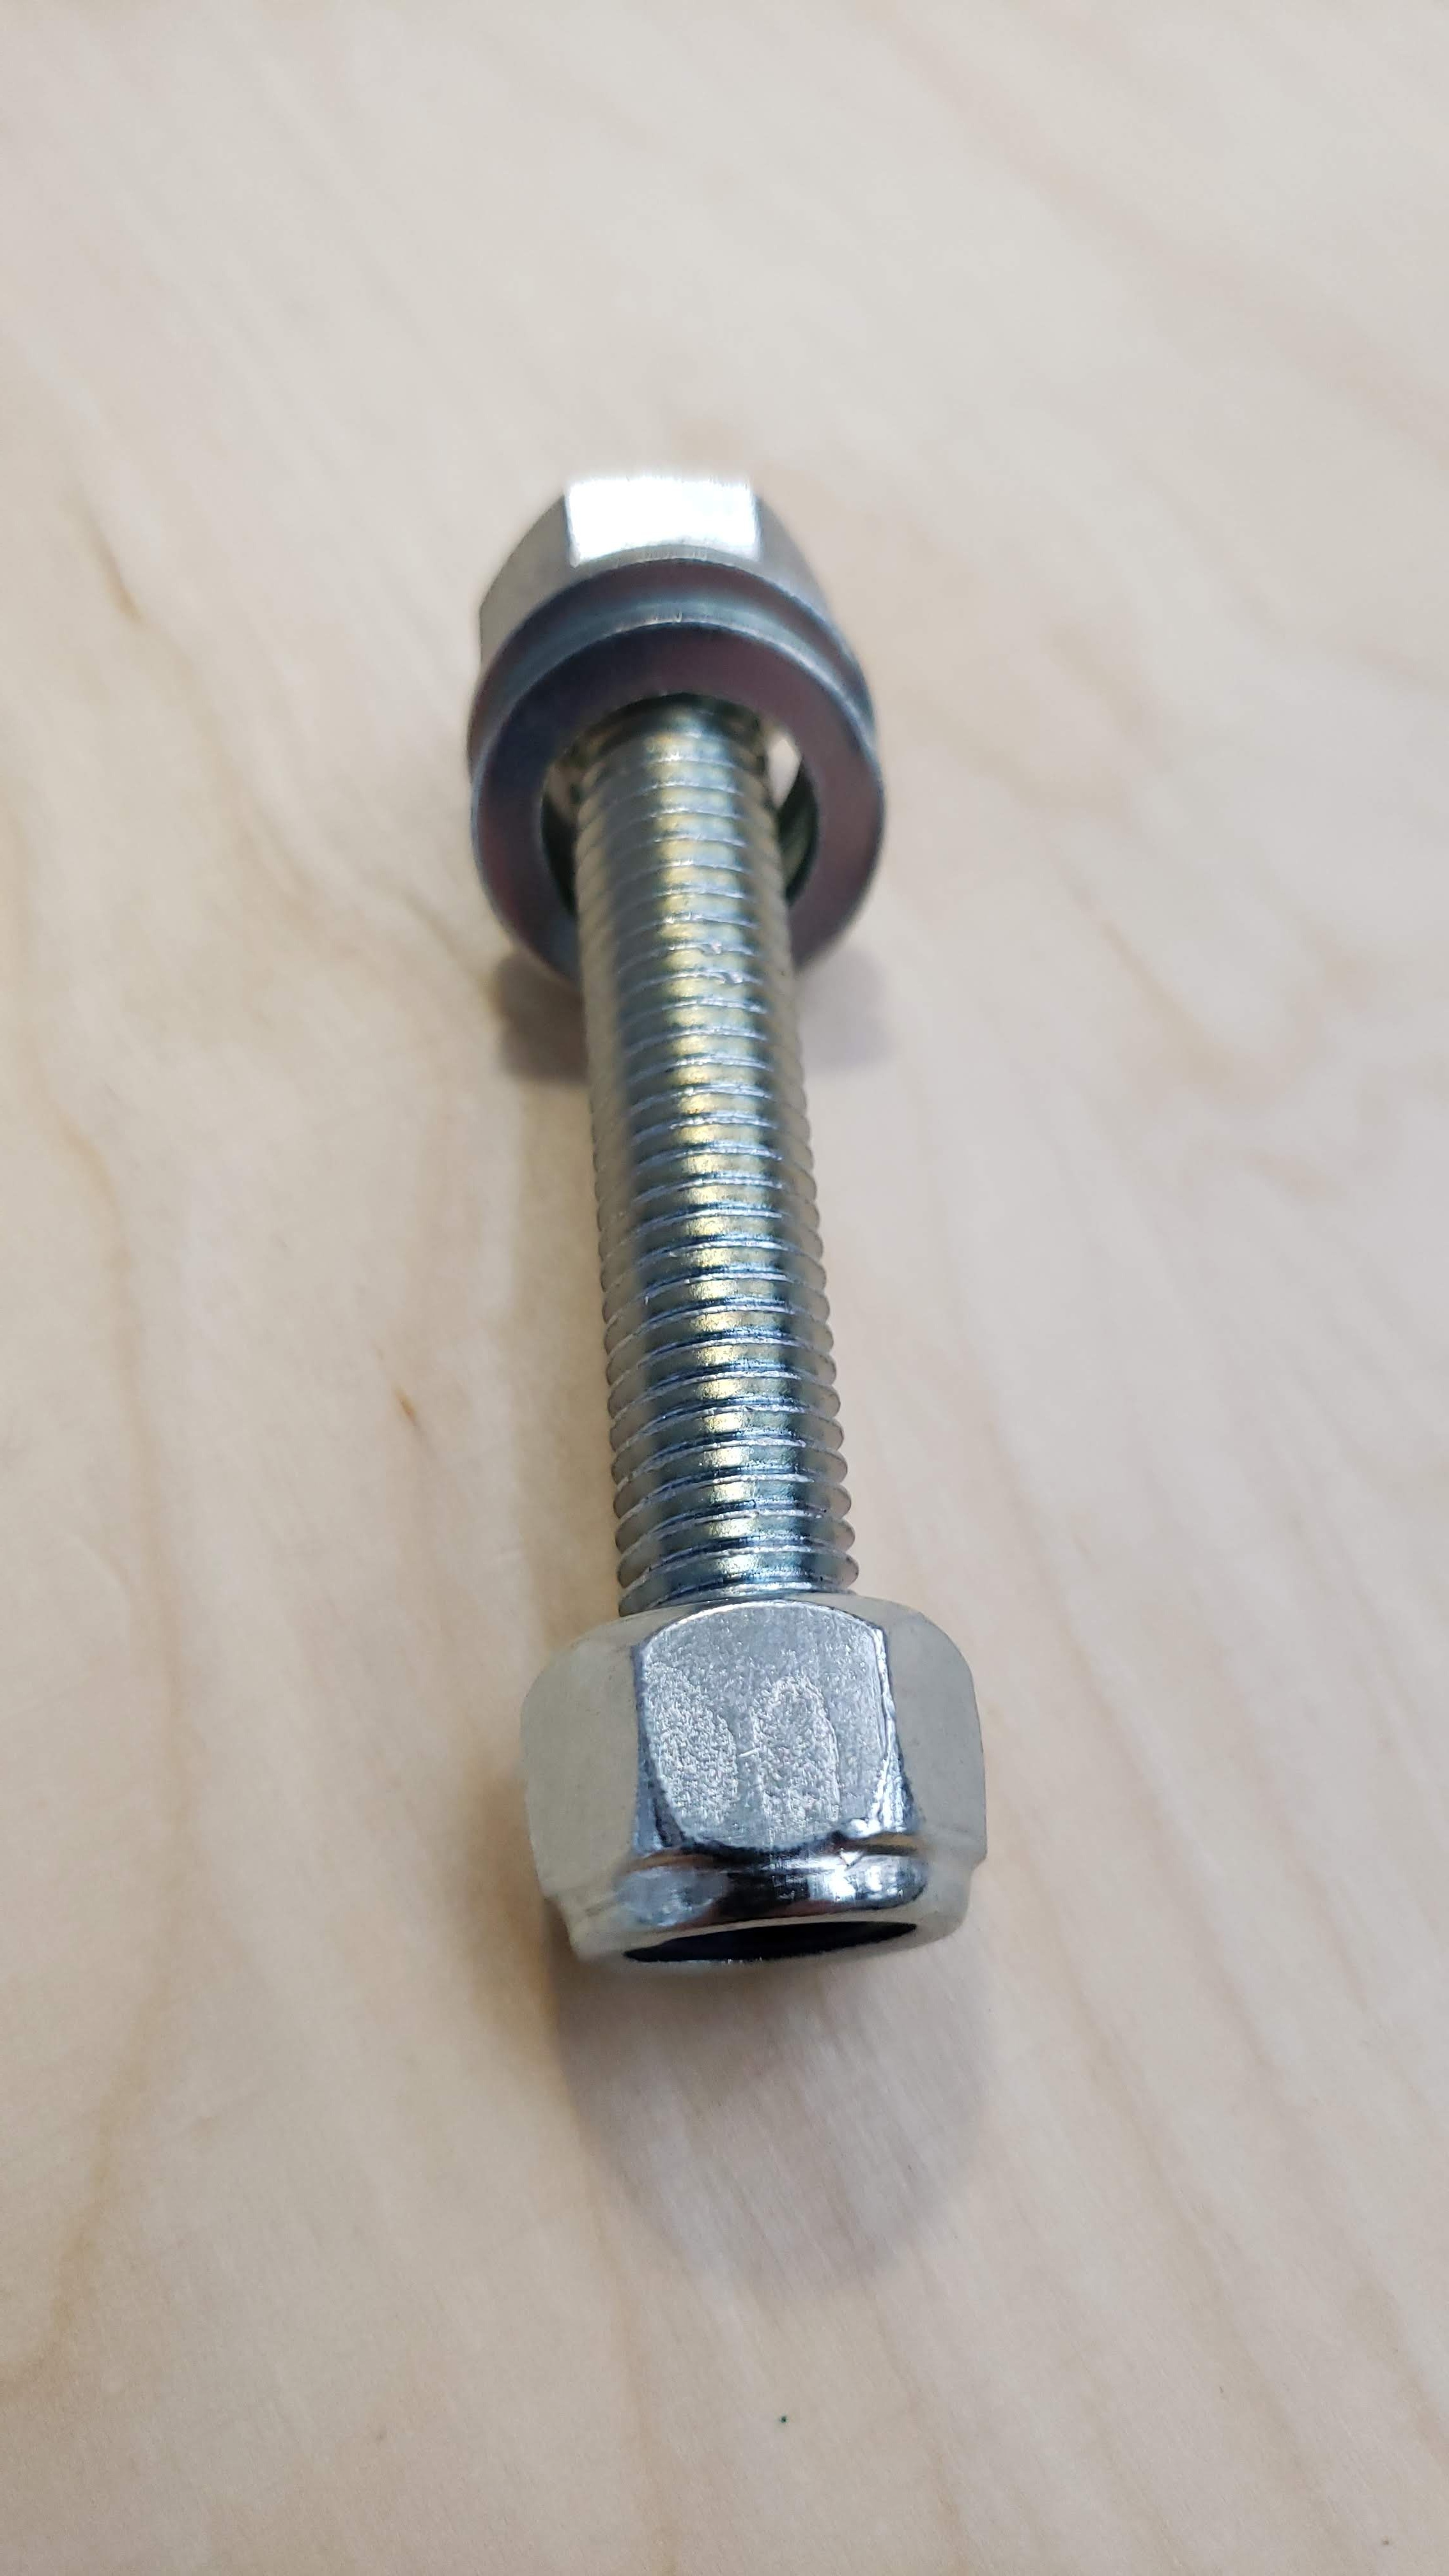FinishedAssembly: (366, 370, 1063, 2118)
